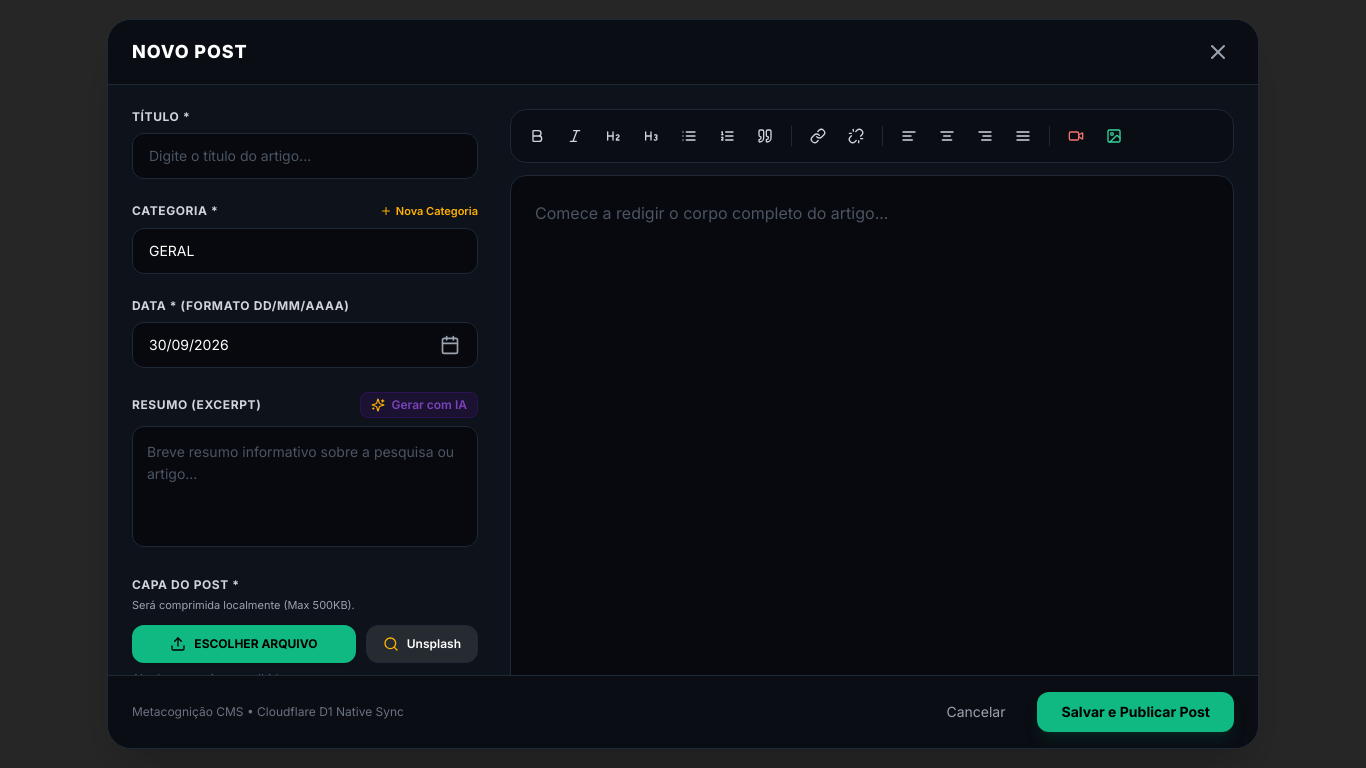
Test: NewPostModal.vue › TEST-POST-03: deve preencher o resumo ao acionar o botão de IA
// Preenche título
Type "Pesquisa em Metacognição" into the field with test id "input-post-title" at (305, 156), box top-left (132, 133), bottom-right (478, 179)
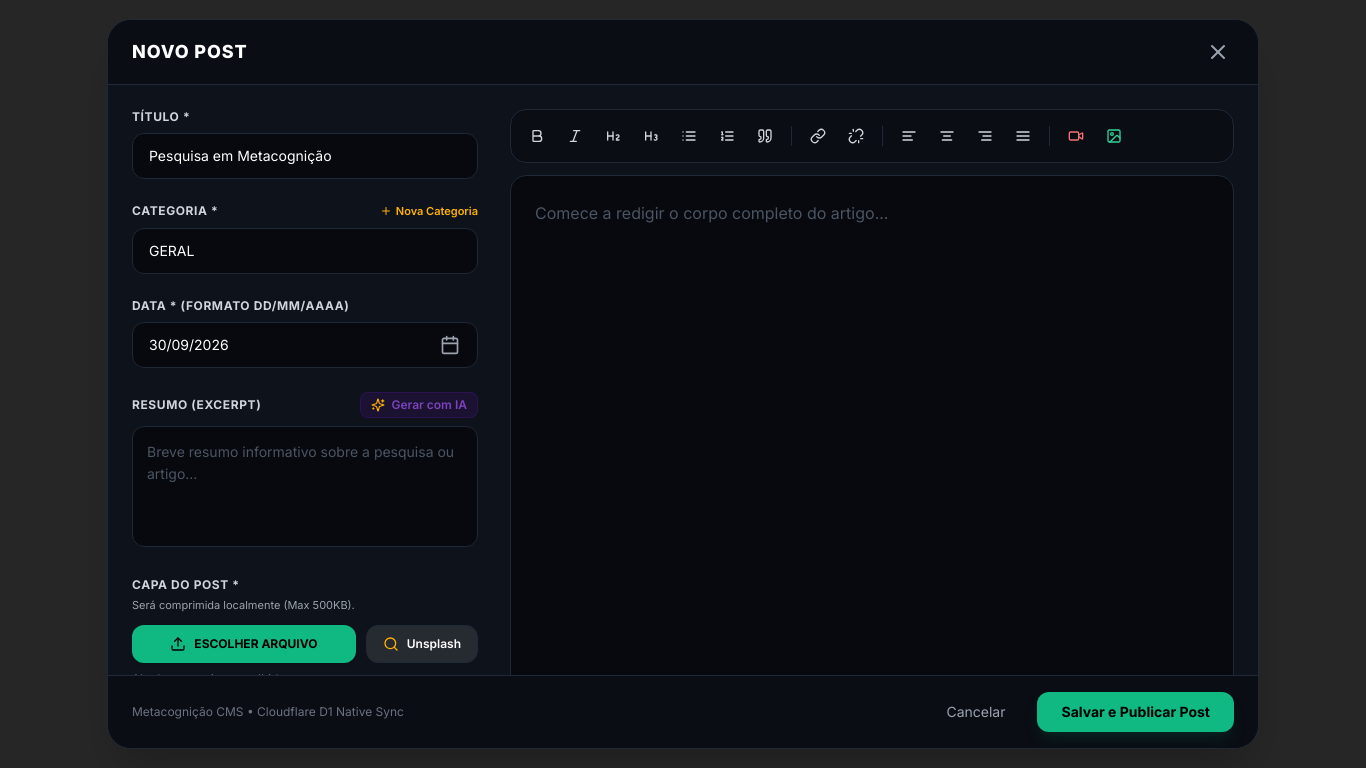
// Clica no botão de IA
Click the button with test id "btn-generate-ai" at (419, 405), box top-left (360, 392), bottom-right (478, 418)
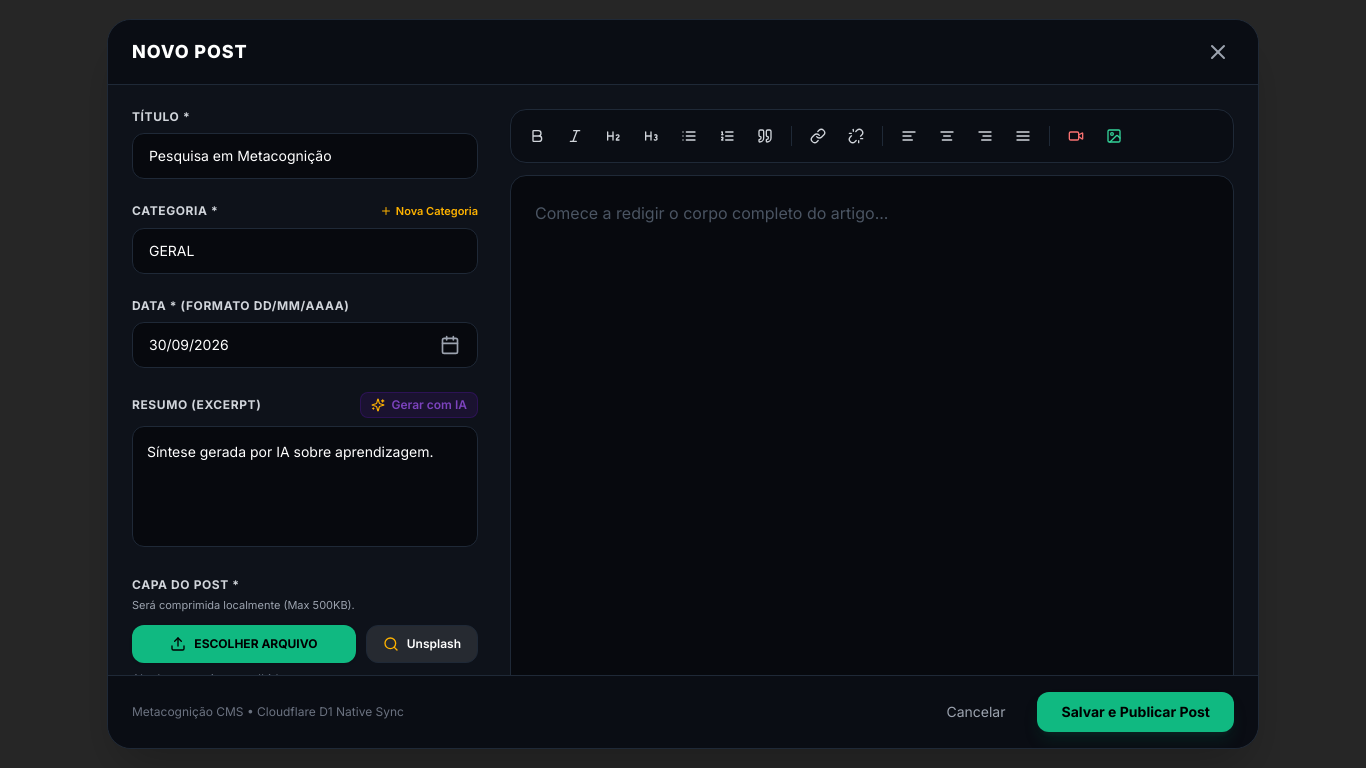
Now the text box with test id "textarea-post-excerpt" holds "Síntese gerada por IA sobre aprendizagem.", box top-left (132, 426), bottom-right (478, 547)
